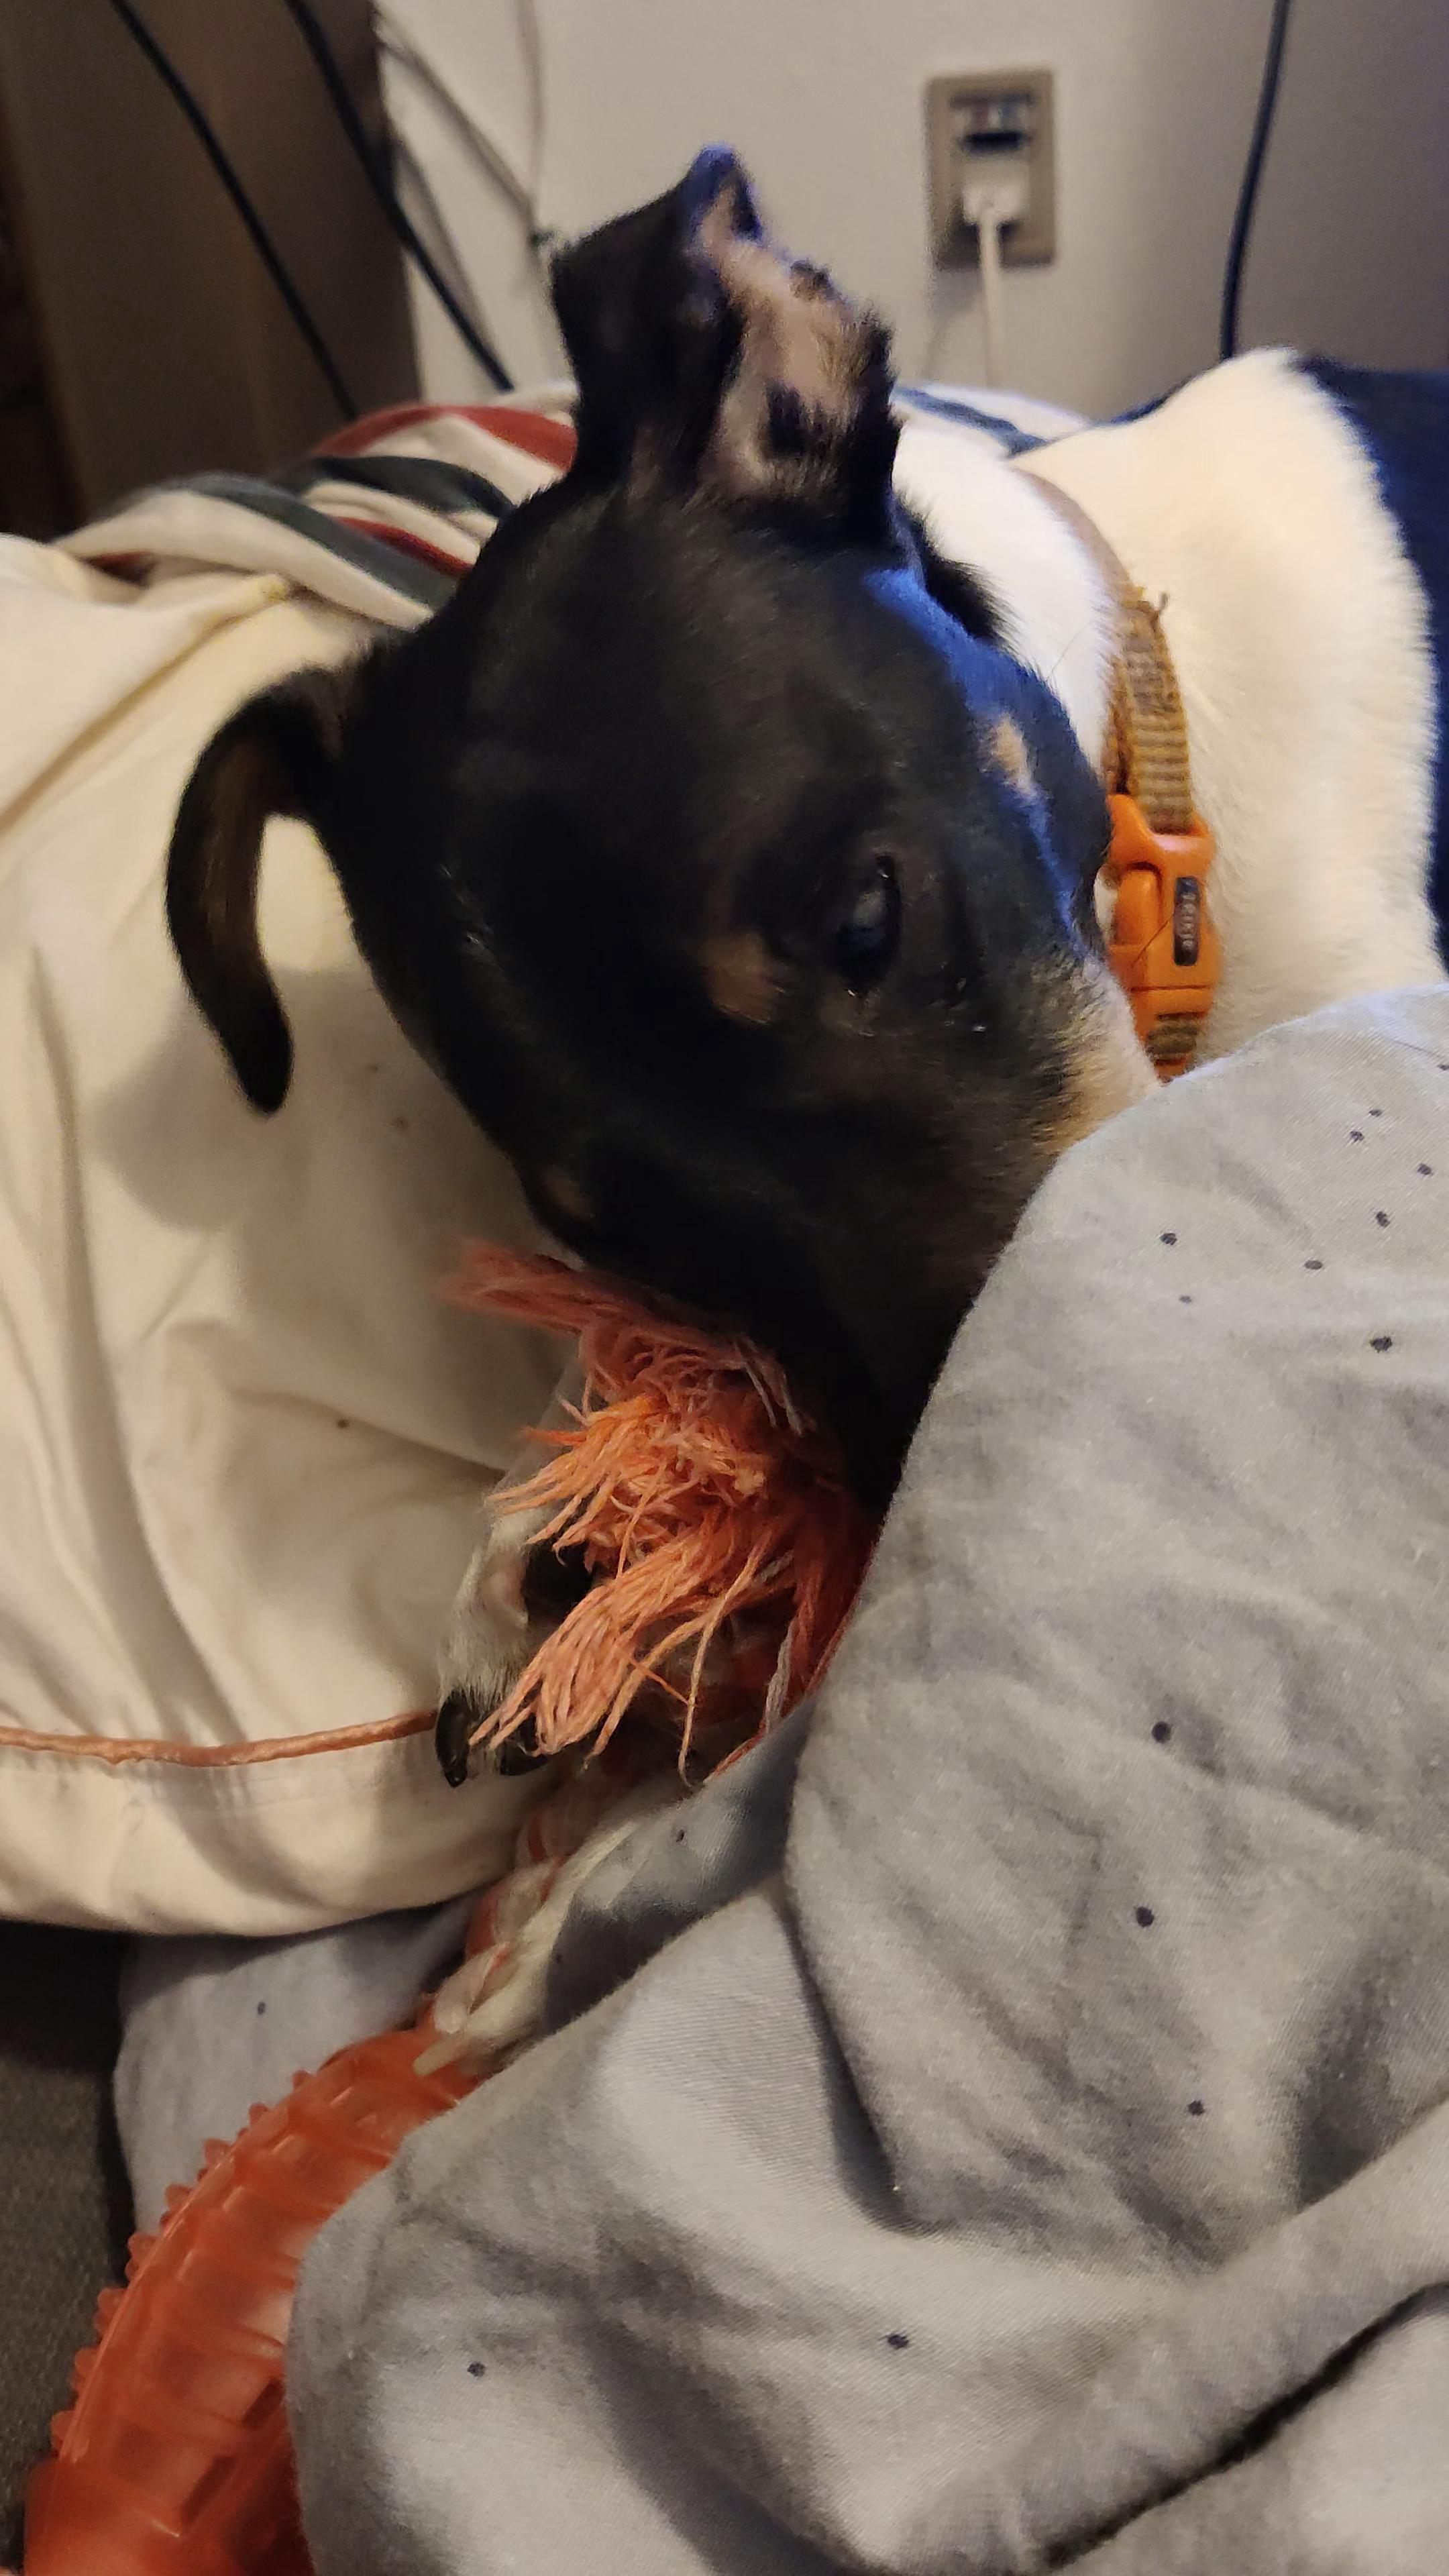Dog: (149, 133, 1449, 2084)
